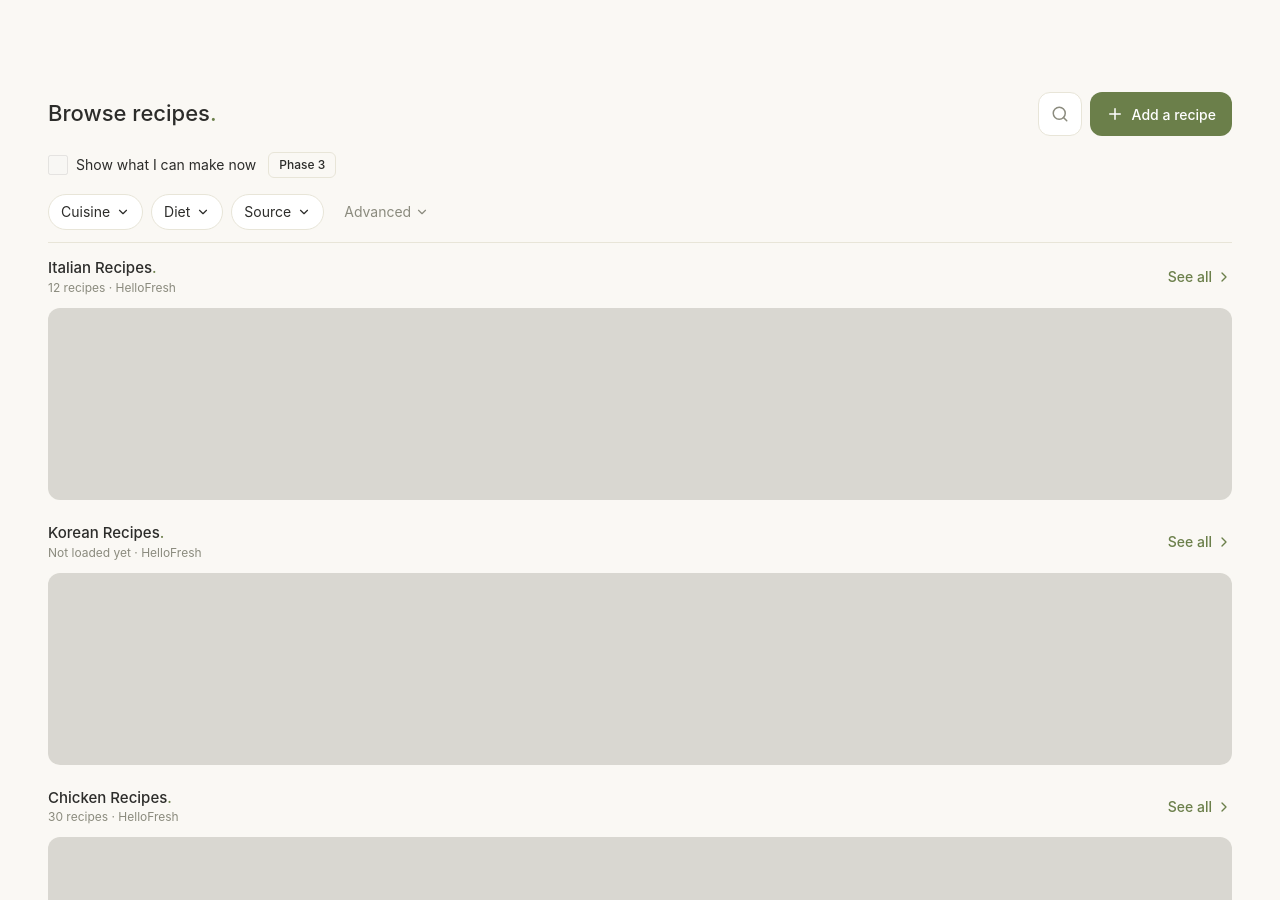
Test: Recipes page — themes › theme bar › keeps Main ingredient behind Advanced
Check: the button "Main ingredient" is not shown
Click the button "Advanced".
click(387, 212)  # box [332, 194, 441, 230]
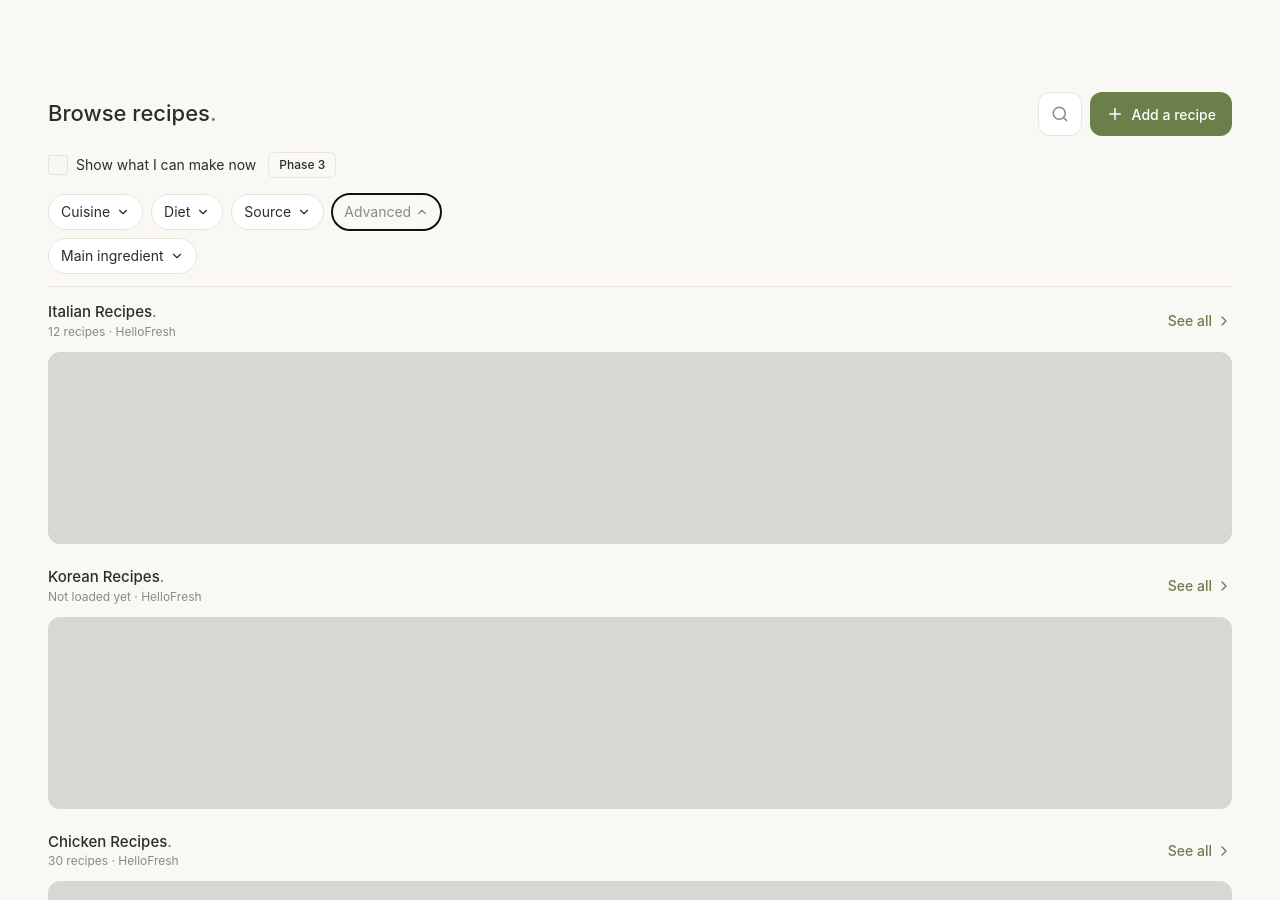
Check: the button "Main ingredient" is shown, box [48, 238, 196, 274]
